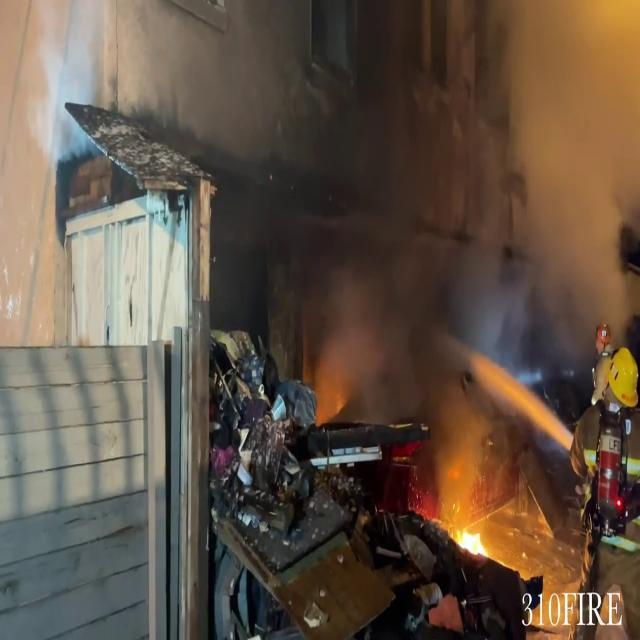Fire: (450, 514, 498, 564)
Smoke: (304, 48, 494, 380), (488, 0, 640, 310)
